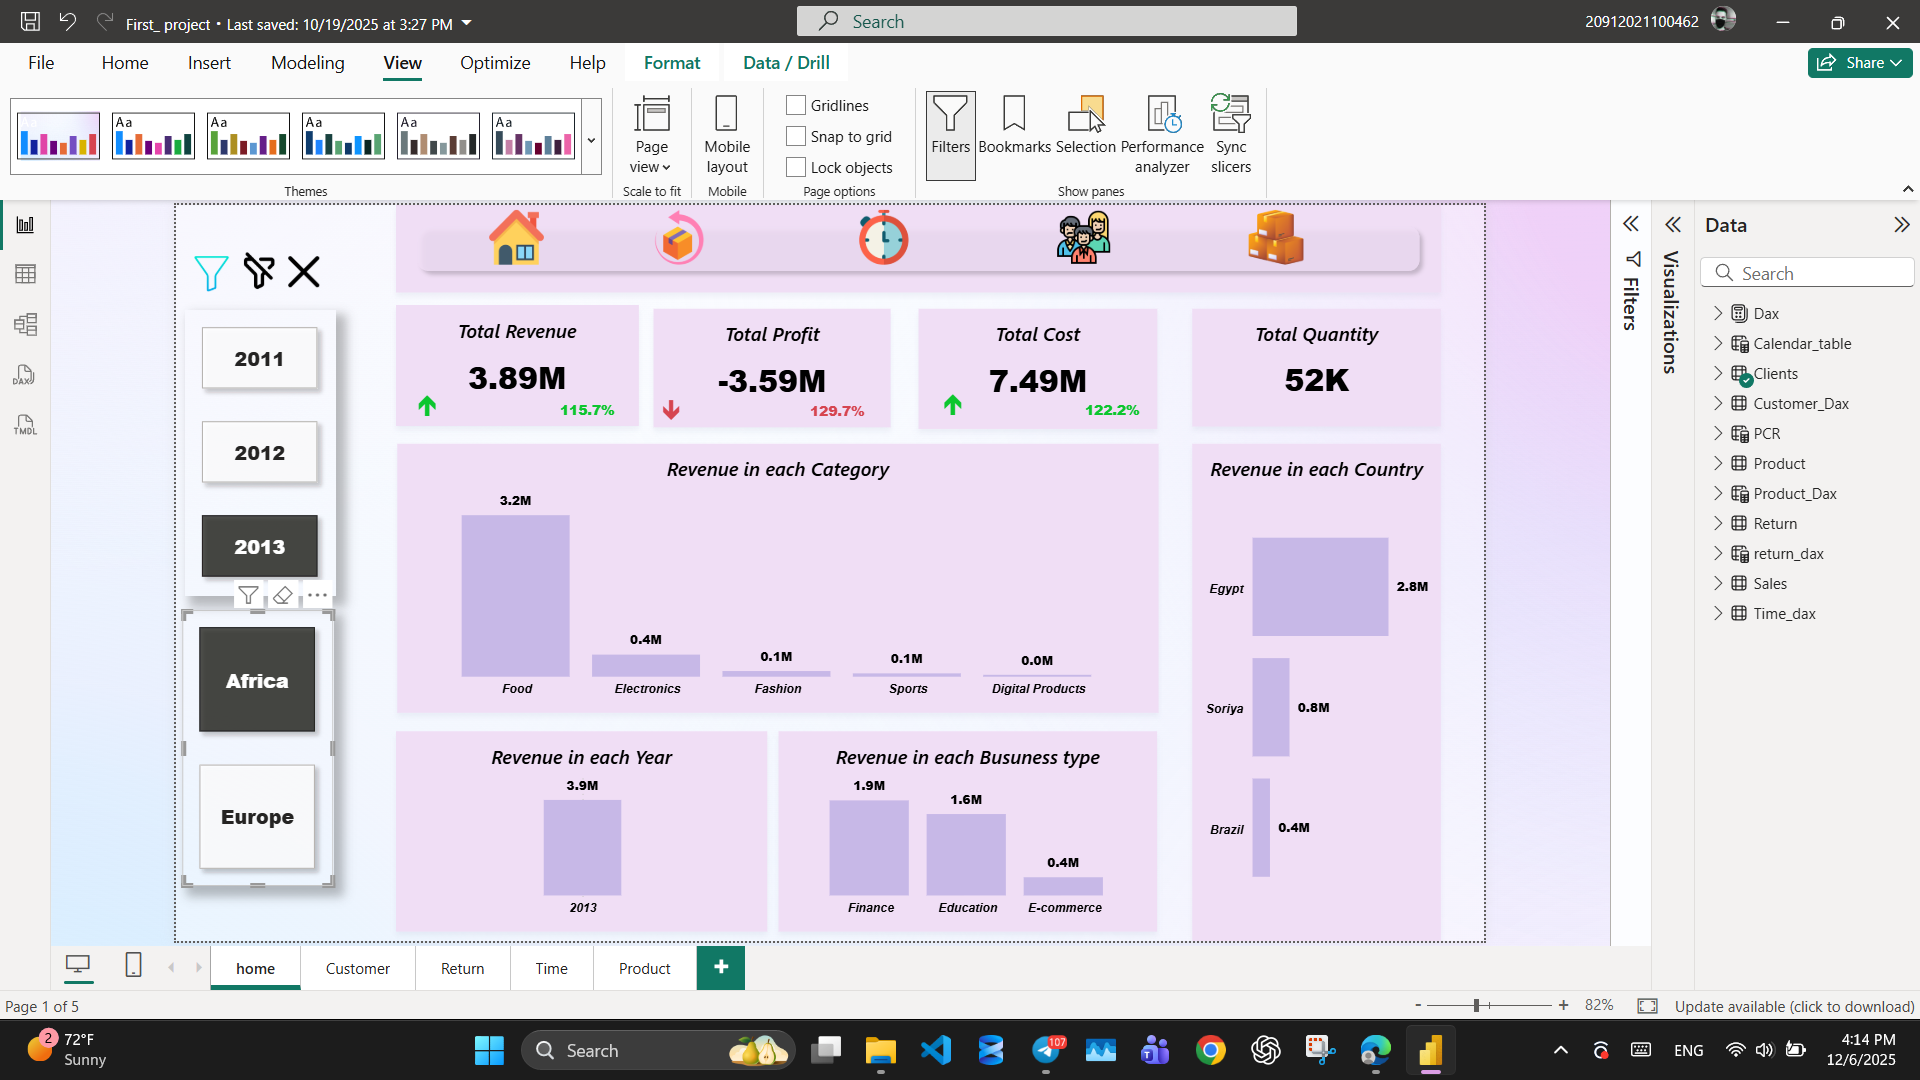

This screenshot's page, from the dashboard's own definition file:
{"tool":"powerbi","page":{"name":"home","canvas":[1280,720],"ordinal":0},"visuals":[{"type":"advancedSlicerVisual","fields":{"Values":["Calendar_table.year"]},"box":[8.6,102.7,148,280],"z":2000},{"type":"advancedSlicerVisual","fields":{"Values":["Clients.Continent"]},"box":[6.1,396.2,148,270.2],"z":3000},{"type":"shape","box":[215.2,0,1022.3,85.6],"z":4000},{"type":"image","box":[95.4,45.2,58.7,40.4],"z":5000},{"type":"image","box":[50.1,41.6,62.4,50.1],"z":6000},{"type":"image","box":[0,45.2,69.7,44],"z":7000},{"type":"image","box":[275.6,0,116.7,63.3],"z":8000},{"type":"image","box":[815.6,0,145.5,63.6],"z":9000},{"type":"image","box":[624.4,0,135.3,63.3],"z":10000},{"type":"image","box":[430.4,0,124.7,63.6],"z":11000},{"type":"image","box":[1015.4,0,122.9,63.3],"z":12000},{"type":"card","title":"Total Revenue","fields":{"Values":["Dax.total _revenue"]},"box":[215.2,97.8,237.2,118.6],"z":13000},{"type":"card","title":"Total Revenue","fields":{"Values":["Dax.Show_Variance_revenue"]},"box":[357.1,177.3,90.5,50.1],"z":14000},{"type":"card","title":"Total Revenue","fields":{"Values":["Dax.Arrow_revenue"]},"box":[214,165.1,63.6,63.6],"z":15000},{"type":"card","title":"Total Profit","fields":{"Values":["Dax.total_profit"]},"box":[467.1,101.5,232.3,116.2],"z":16000},{"type":"card","title":"Total Revenue","fields":{"Values":["Dax.Show_Variance_profit"]},"box":[601.6,178.5,90.5,50.1],"z":17000},{"type":"card","title":"Total Revenue","fields":{"Values":["Dax.Arrow_profit"]},"box":[452.4,170,63.6,63.6],"z":18000},{"type":"card","title":"Total Cost","fields":{"Values":["Dax.total_cost"]},"box":[726.4,101.5,233.6,117.4],"z":19000},{"type":"card","title":"Total Revenue","fields":{"Values":["Dax.Show_Variance_cost"]},"box":[870.7,177.3,90.5,50.1],"z":20000},{"type":"card","title":"Total Revenue","fields":{"Values":["Dax.Arrow_cost"]},"box":[725.1,171.2,69.7,50.1],"z":21000},{"type":"card","title":"Total Quantity","fields":{"Values":["Dax.total_qty"]},"box":[994.2,101.5,243.3,114.9],"z":22000},{"type":"clusteredColumnChart","title":"Revenue in each Category","fields":{"Category":["Product.CategoryName"],"Y":["Dax.total _revenue"]},"box":[216.4,233.6,744.7,262.9],"z":23000},{"type":"clusteredBarChart","title":"Revenue in each Country","fields":{"Category":["Clients.CountryName"],"Y":["Dax.total _revenue"]},"box":[994.2,233.6,243.3,486.7],"z":24000},{"type":"clusteredColumnChart","title":"Revenue in each Year","fields":{"Y":["Dax.total _revenue"],"Category":["Calendar_table.year"]},"box":[215.2,514.8,363.2,195.7],"z":25000},{"type":"clusteredColumnChart","title":"Revenue in each Busuness type","fields":{"Category":["Clients.BusinessType"],"Y":["Dax.total _revenue"]},"box":[589.4,514.8,370.5,195.7],"z":26000}]}

Visuals, with their boxes on the page's 1280x720 design canvas (x1, y1, x2, y2). These are canvas units, not pixel positions in the 1920x1080 screenshot, which may show the page scaled, cropped or inside an application window:
advancedSlicerVisual - Calendar_table.year: rect(9, 103, 157, 383)
advancedSlicerVisual - Clients.Continent: rect(6, 396, 154, 666)
shape: rect(215, 0, 1238, 86)
image: rect(95, 45, 154, 86)
image: rect(50, 42, 112, 92)
image: rect(0, 45, 70, 89)
image: rect(276, 0, 392, 63)
image: rect(816, 0, 961, 64)
image: rect(624, 0, 760, 63)
image: rect(430, 0, 555, 64)
image: rect(1015, 0, 1138, 63)
"Total Revenue" card: rect(215, 98, 452, 216)
"Total Revenue" card: rect(357, 177, 448, 227)
"Total Revenue" card: rect(214, 165, 278, 229)
"Total Profit" card: rect(467, 102, 699, 218)
"Total Revenue" card: rect(602, 178, 692, 229)
"Total Revenue" card: rect(452, 170, 516, 234)
"Total Cost" card: rect(726, 102, 960, 219)
"Total Revenue" card: rect(871, 177, 961, 227)
"Total Revenue" card: rect(725, 171, 795, 221)
"Total Quantity" card: rect(994, 102, 1238, 216)
"Revenue in each Category" clusteredColumnChart: rect(216, 234, 961, 496)
"Revenue in each Country" clusteredBarChart: rect(994, 234, 1238, 720)
"Revenue in each Year" clusteredColumnChart: rect(215, 515, 578, 710)
"Revenue in each Busuness type" clusteredColumnChart: rect(589, 515, 960, 710)
